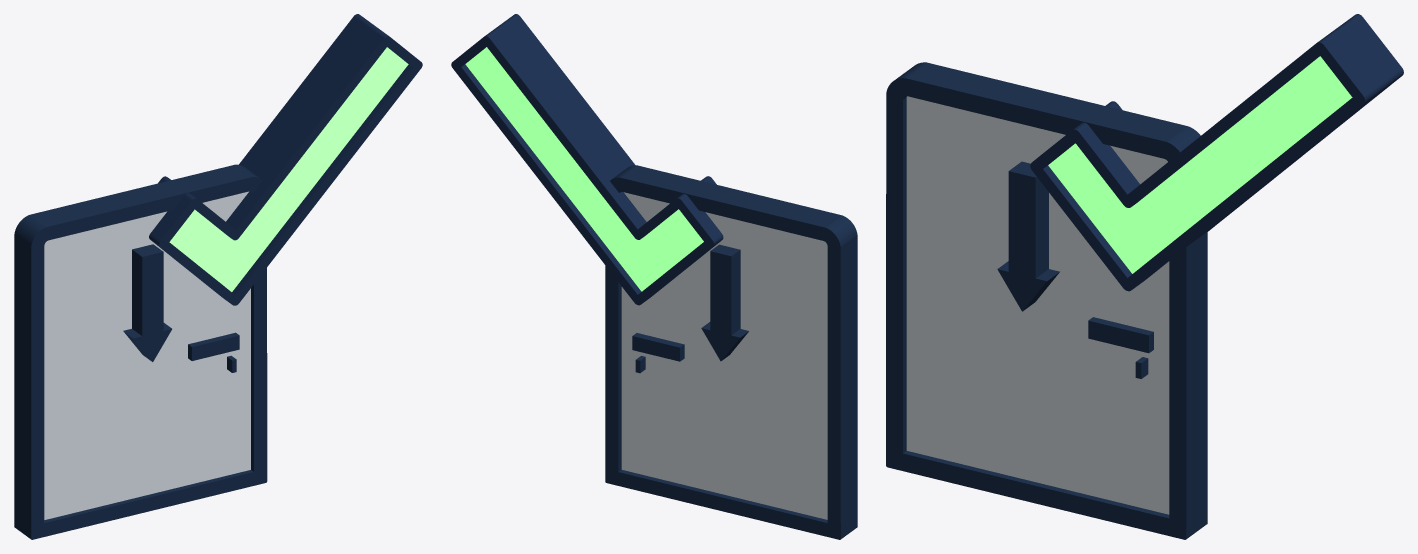
The model's file is d-icons-door-out-check.glb.
3 views of the same model, side by side, from view 1: azimuth 30°, elevation 25°; view 2: azimuth 150°, elevation 25°; view 3: azimuth 330°, elevation 25° (orthographic). The views are drawn at different scales.
Visible parts, largest first — view 1: doorOut, Checkmarkx.005; view 2: doorOut, Checkmarkx.005; view 3: doorOut, Checkmarkx.005.
Part boxes in pixels (x1,y1,x2,y2): doorOut: (14,164,267,539); Checkmarkx.005: (149,14,422,305); doorOut: (605,165,857,539); Checkmarkx.005: (451,14,723,305); doorOut: (886,62,1207,539); Checkmarkx.005: (1030,14,1403,291).
Size of the model in its own units: 0.653 by 0.6891 by 0.0897.
Materials: 3 (1 with a texture image).
